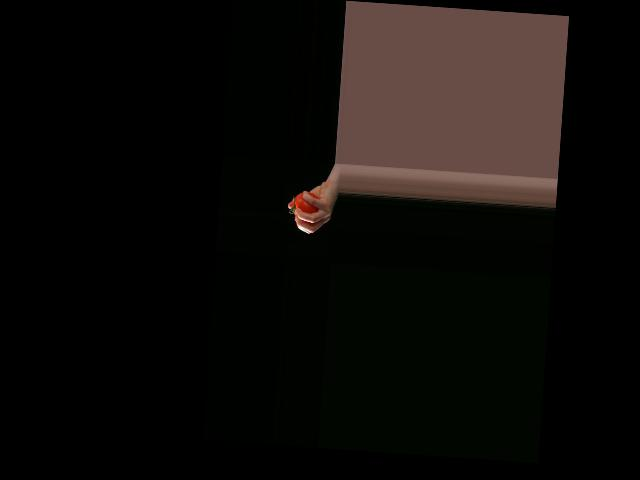tomato: (294, 191, 320, 217)
